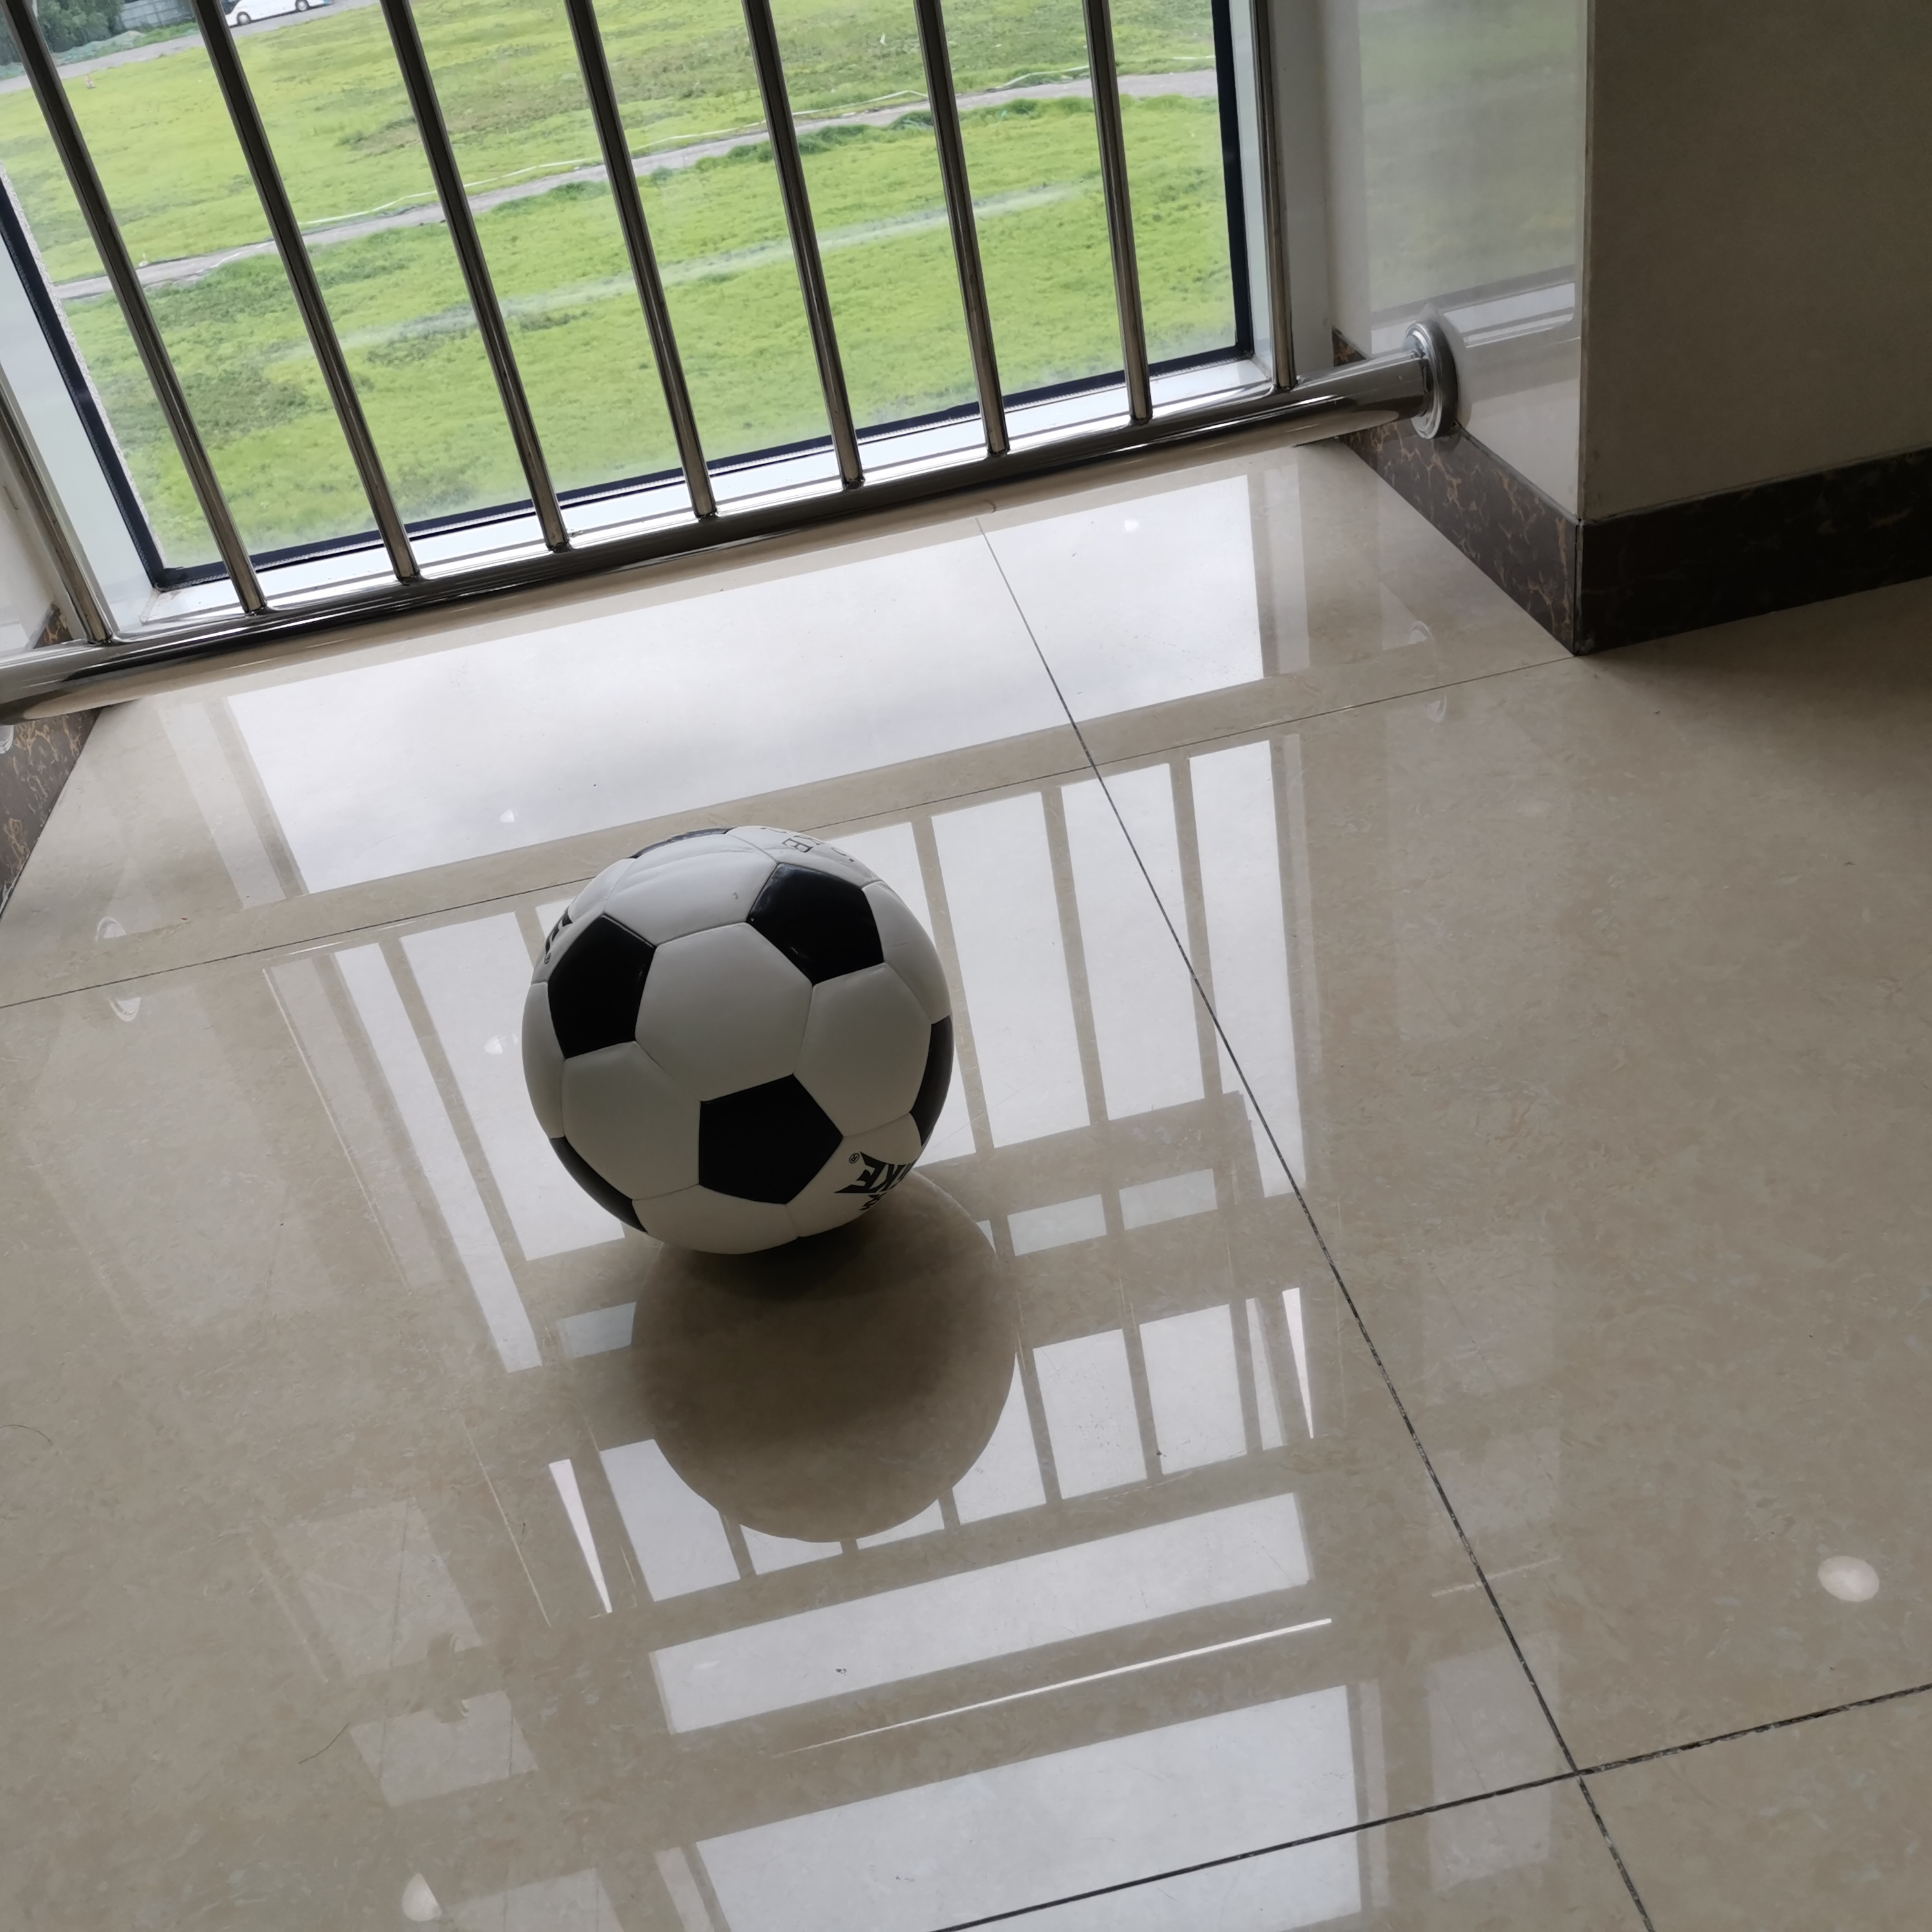football: (518, 826, 955, 1260)
